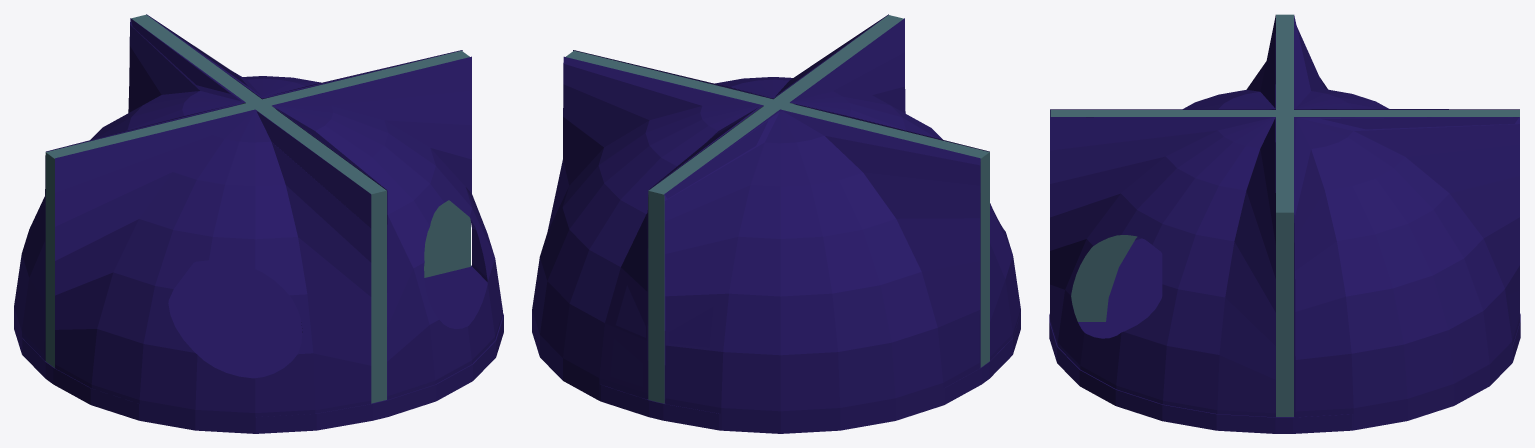
Rendered from ExportedBlenderFBXFile.fbx.
The picture shows the model from 3 angles, left to right: view 1: azimuth 30°, elevation 25°; view 2: azimuth 150°, elevation 25°; view 3: azimuth 270°, elevation 25°; orthographic projection. The views are drawn at different scales.
Visible parts, largest first — view 1: MaskFace, Cube, Cube.001; view 2: MaskFace, Cube.001, Cube; view 3: MaskFace, Cube.001, Cube.
Part boxes in pixels (x1=…): MaskFace: x1=14, y1=14, x2=502, y2=433; Cube: x1=22, y1=259, x2=503, y2=433; Cube.001: x1=45, y1=14, x2=470, y2=403; MaskFace: x1=532, y1=14, x2=1020, y2=433; Cube.001: x1=566, y1=15, x2=989, y2=403; Cube: x1=599, y1=312, x2=1020, y2=430; MaskFace: x1=1050, y1=15, x2=1519, y2=430; Cube.001: x1=1050, y1=14, x2=1519, y2=416; Cube: x1=1049, y1=238, x2=1520, y2=433.
Bounding box in the file's own units: 52.15 × 27 × 52.15.
